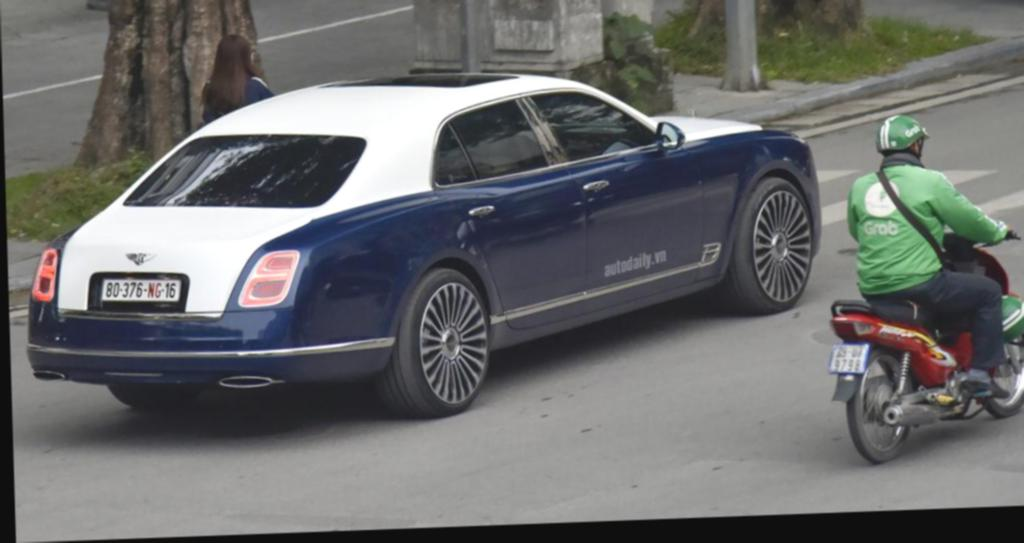License_Plate: (97, 270, 186, 312)
